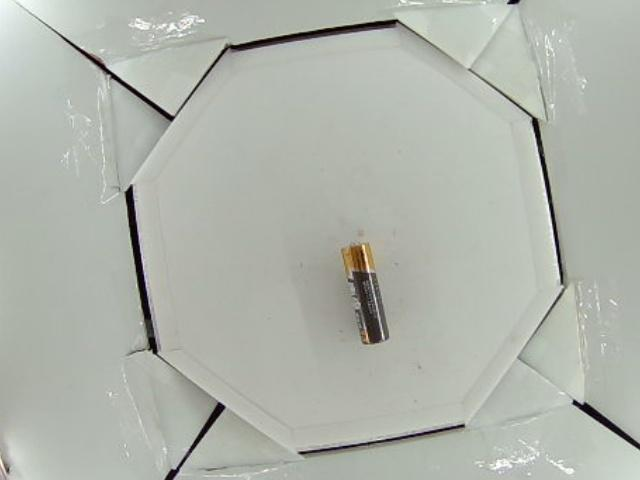Battery: (345, 242, 382, 347)
